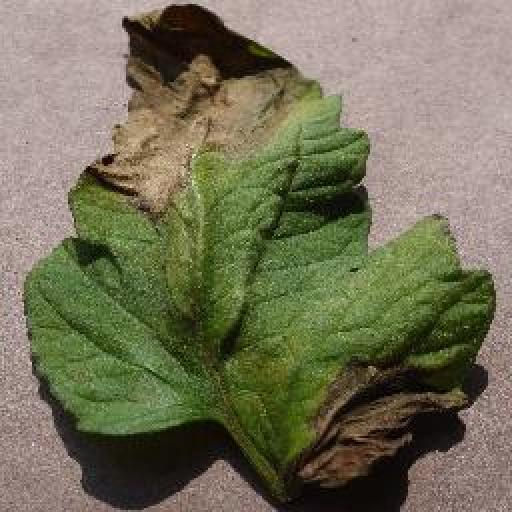disease_tomato: (24, 2, 497, 490)
